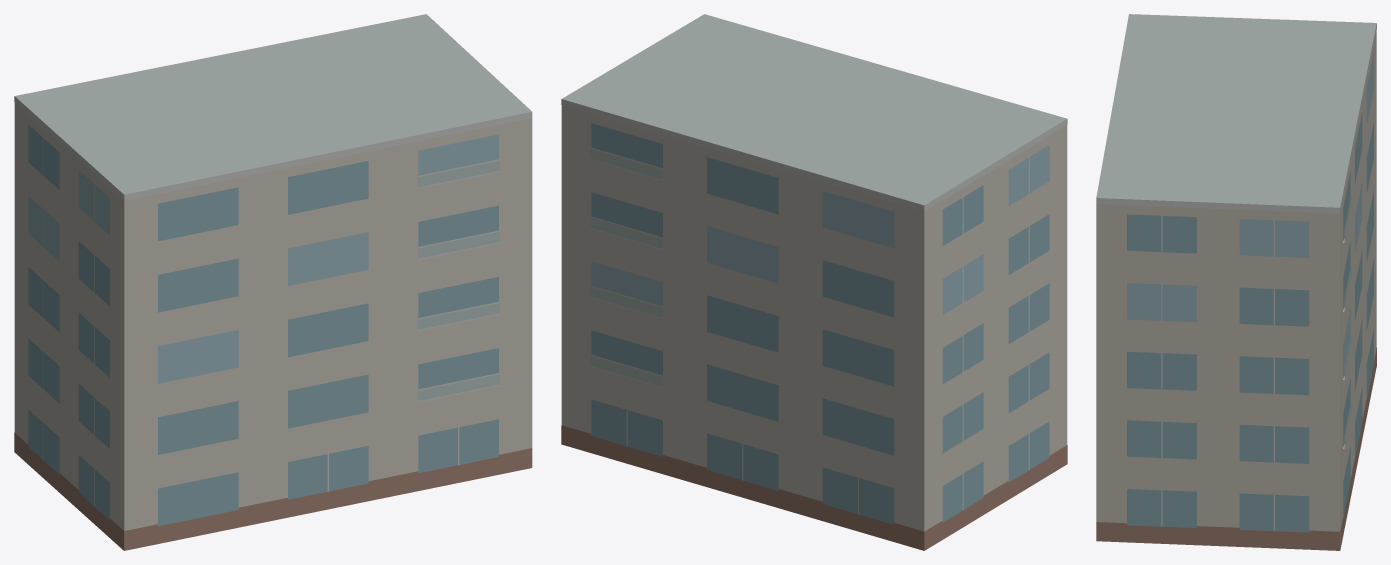
Rendered from survey-upis-32761999.glb.
3 renders of one model, left to right at view 1: azimuth 30°, elevation 25°; view 2: azimuth 150°, elevation 25°; view 3: azimuth 270°, elevation 25°, orthographic. The views are drawn at different scales.
Parts seen in each view (by area): view 1: survey-upis-32761999.tmp; view 2: survey-upis-32761999.tmp; view 3: survey-upis-32761999.tmp.
Boxes of the visible parts, x1,y1,x2,y2 form: survey-upis-32761999.tmp: (14,14,532,550); survey-upis-32761999.tmp: (561,14,1067,550); survey-upis-32761999.tmp: (1096,14,1376,550).
Size of the model in its own units: 16.78 by 13.85 by 10.27.
